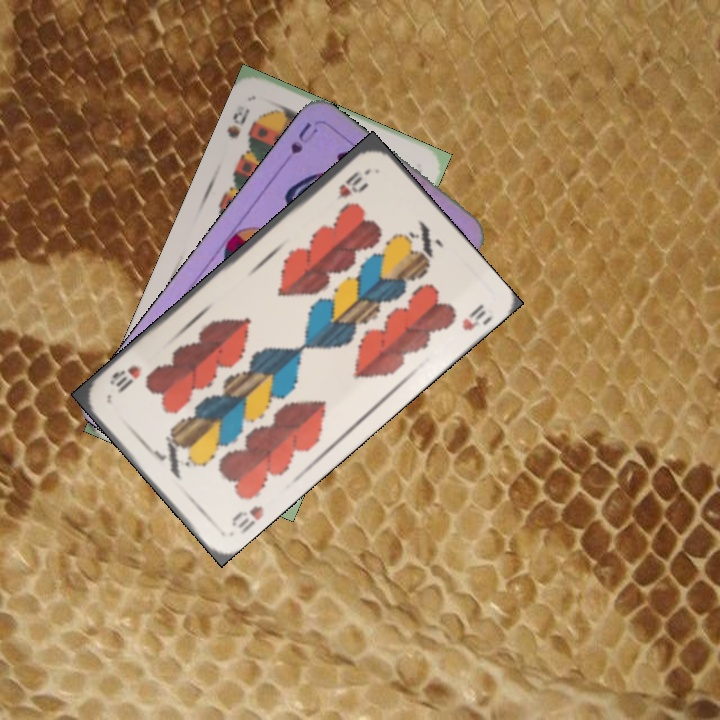H10: (227, 501, 267, 535), (331, 166, 365, 204)
S8: (222, 104, 253, 141)
SU: (286, 118, 320, 158)
